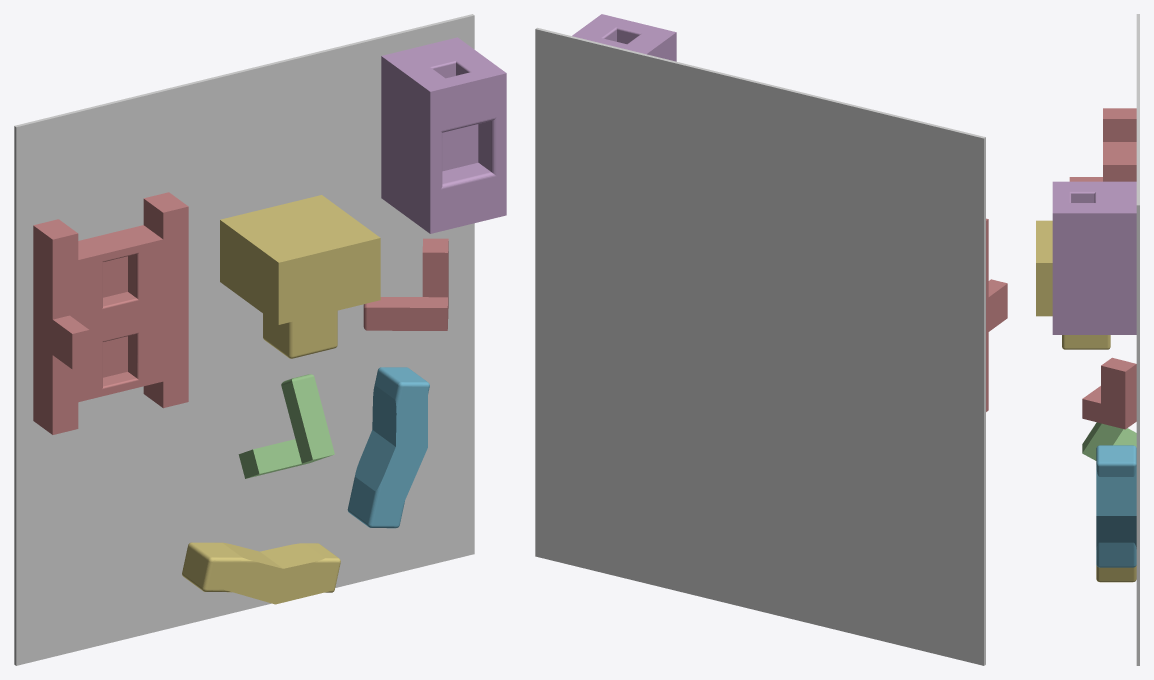
File: pickup_layout.glb
3 views of the same model, side by side, from view 1: azimuth 30°, elevation 25°; view 2: azimuth 150°, elevation 25°; view 3: azimuth 270°, elevation 25° (orthographic). The views are drawn at different scales.
Visible parts, largest first — view 1: world, 0.obj, 3.obj, 6.obj, 2.obj, 1.obj, 4.obj, 5.obj; view 2: world, 3.obj, 0.obj; view 3: 3.obj, 2.obj, 5.obj, 0.obj, world, 6.obj, 4.obj, 1.obj.
Part boxes in pixels (x1,y1,x2,y2): world: (14,14,474,665); 0.obj: (33,192,188,434); 3.obj: (381,37,506,233); 6.obj: (220,195,380,358); 2.obj: (347,367,429,528); 1.obj: (182,542,340,604); 4.obj: (238,374,334,478); 5.obj: (363,238,448,330); world: (535,27,985,665); 3.obj: (572,14,676,61); 0.obj: (986,218,1007,411); 3.obj: (1052,181,1136,334); 2.obj: (1096,445,1136,567); 5.obj: (1082,357,1136,429); 0.obj: (1069,108,1136,181); world: (1136,14,1139,665); 6.obj: (1036,220,1110,349); 4.obj: (1082,422,1136,460); 1.obj: (1096,565,1136,582).
Bounding box in the file's own units: 27 × 30.31 × 6.2.
